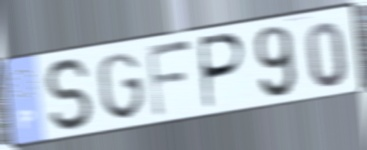0: (303, 16, 350, 90)
9: (252, 23, 297, 100)
F: (144, 38, 195, 121)
G: (95, 49, 148, 122)
P: (199, 31, 248, 113)
S: (41, 56, 98, 134)
